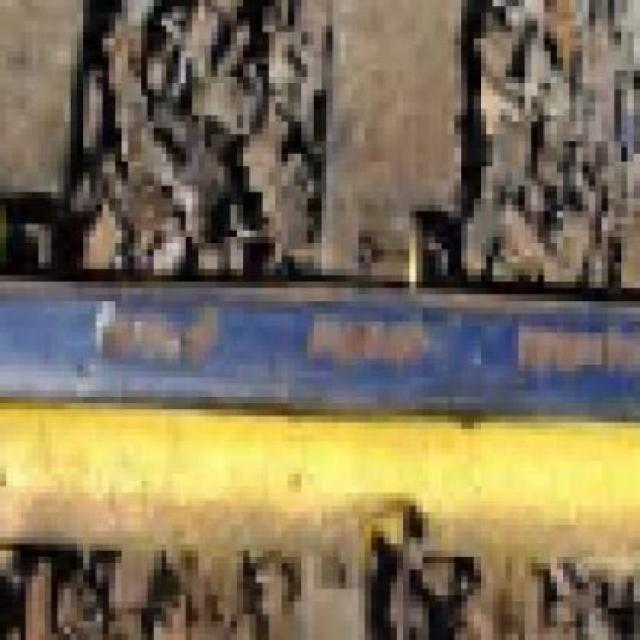defective: (0, 253, 640, 569)
